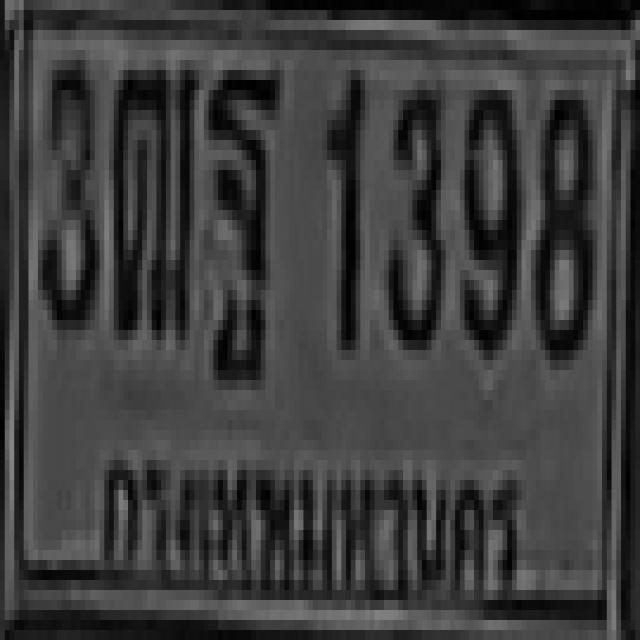1: (322, 65, 360, 345)
25ThorThan: (206, 60, 278, 340)
27ThorPhuThao: (109, 60, 194, 330)
3: (36, 50, 92, 320), (384, 80, 441, 340)
8: (531, 80, 588, 350)
9: (460, 80, 517, 350)
Bangkok: (96, 425, 530, 604)
